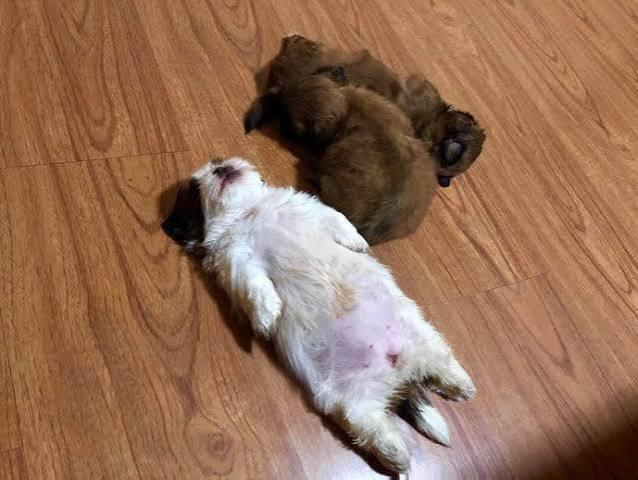puppy-dog: (159, 154, 475, 466), (246, 37, 493, 247)
